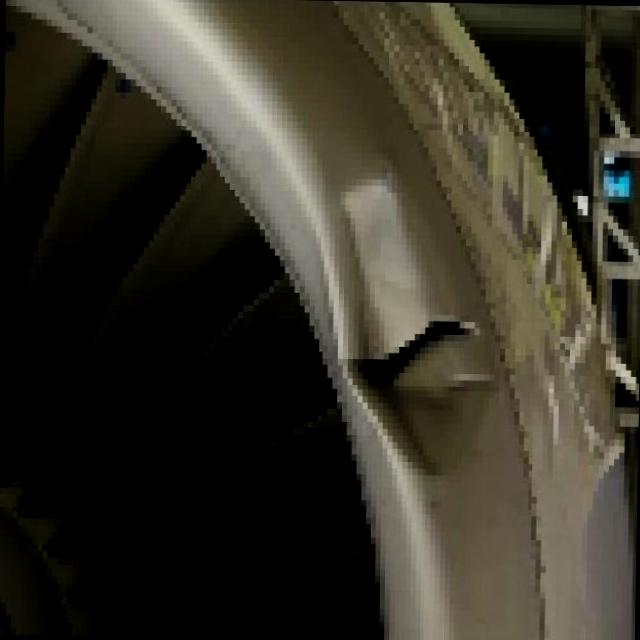crack: (340, 308, 483, 388)
